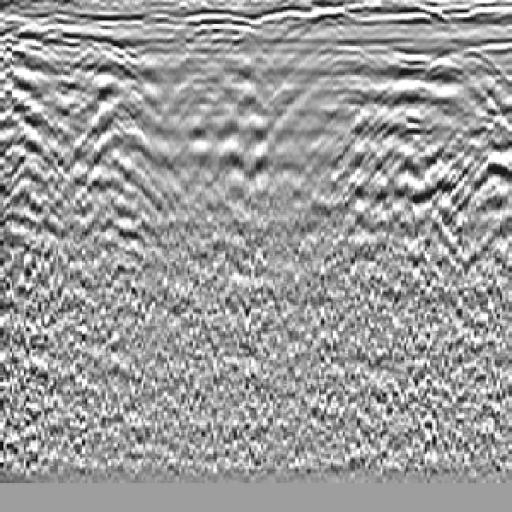non-metallic: (376, 40, 512, 240)
